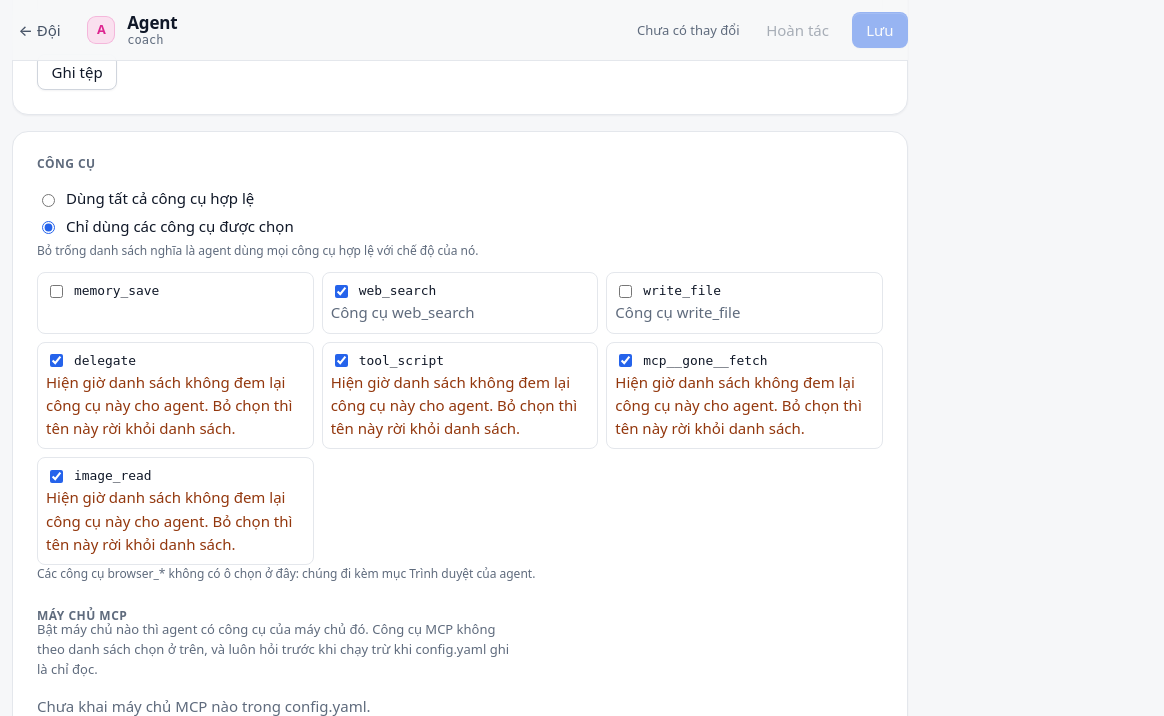
a name the list holds that the server does not list for this agent › leaves the list once it is unticked, and its row goes with it
The image size is (1164, 716).
(page scrolled)
Click the checkbox labelled "tool_script": (341, 361) [335,354,348,367]
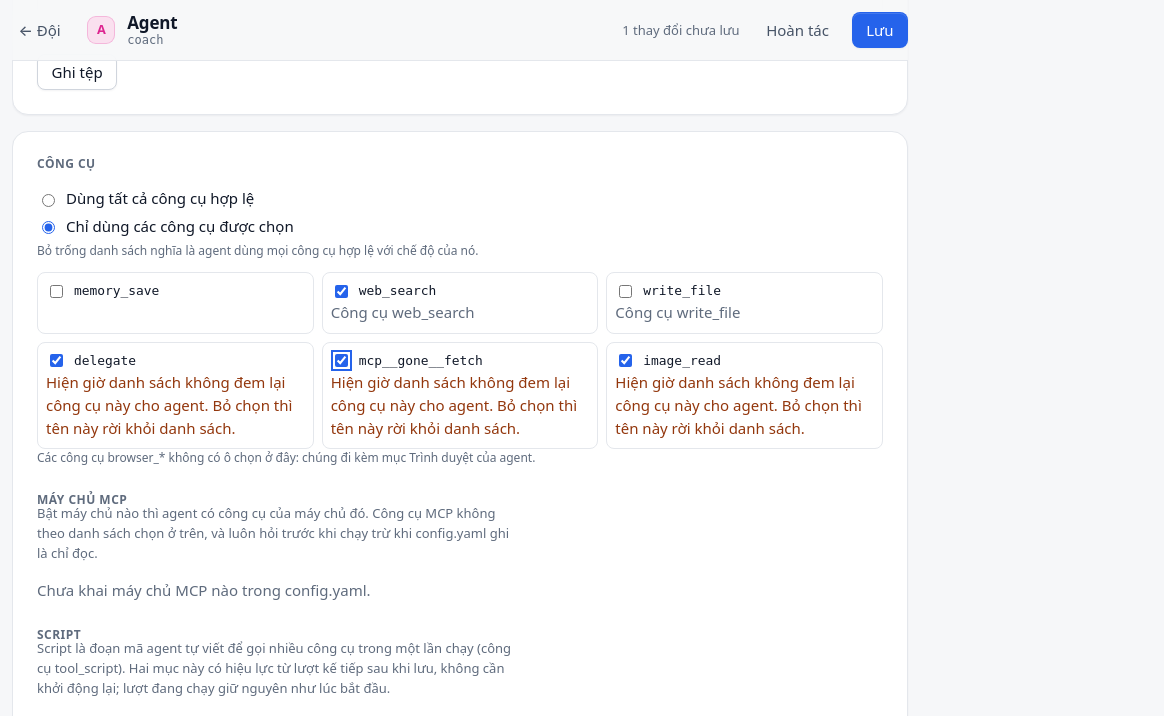
Click the button "Lưu": (880, 30) [852,12,908,48]
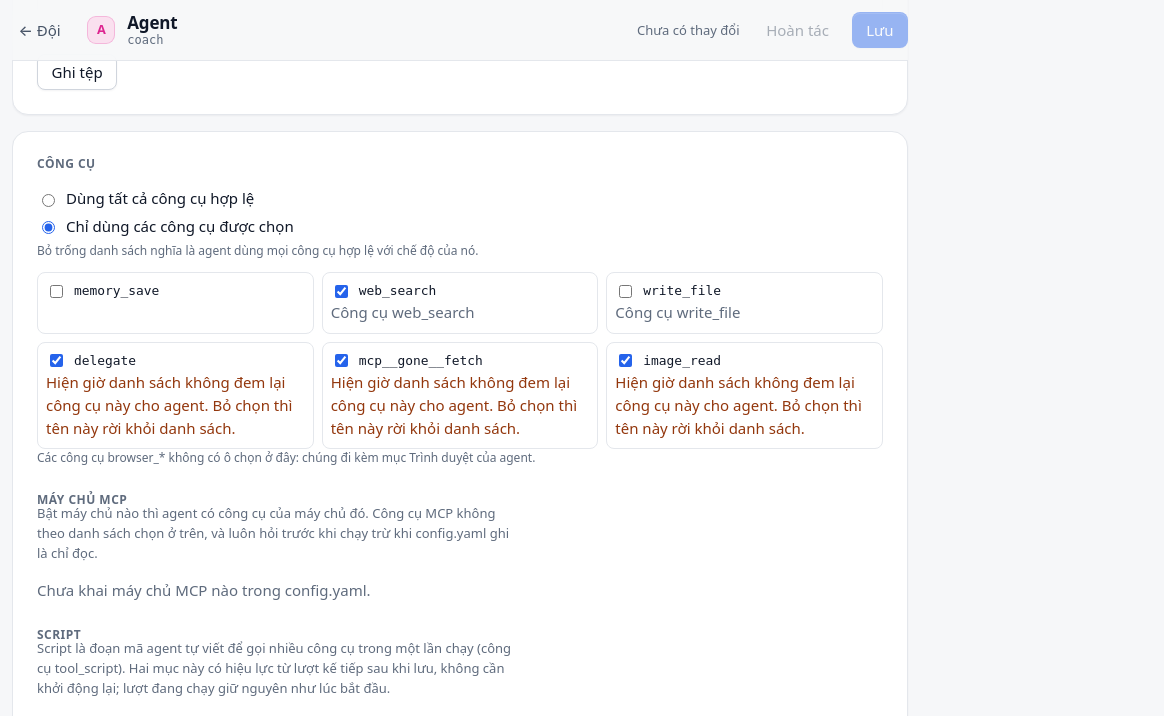
Now the text "Chưa có thay đổi" is shown, box [637,20,740,40]
